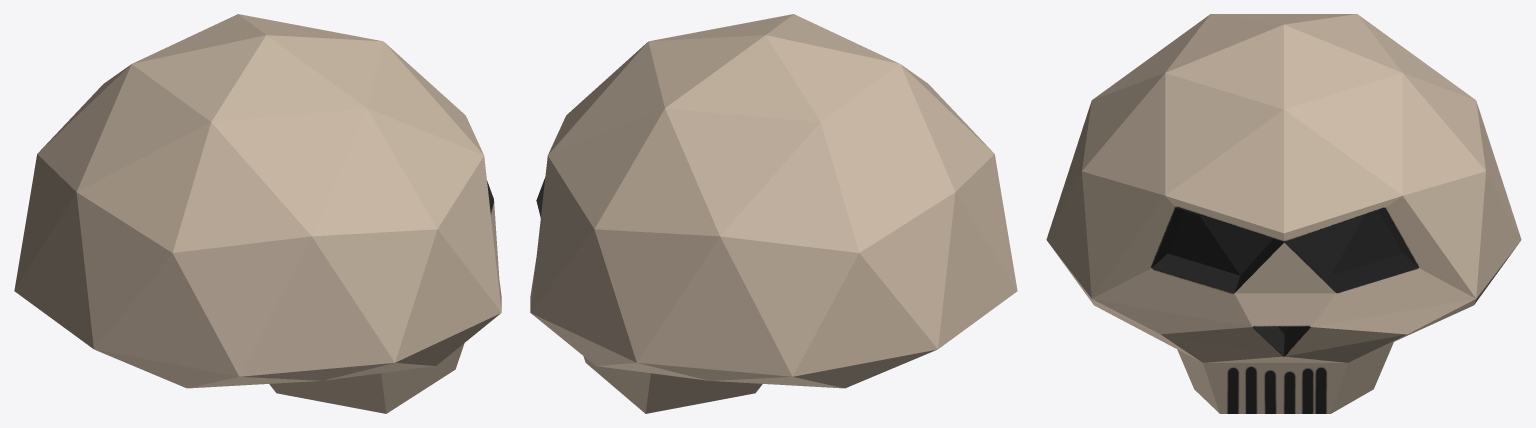
File: skull.fbx
The picture shows the model from 3 angles, left to right: view 1: azimuth 30°, elevation 25°; view 2: azimuth 150°, elevation 25°; view 3: azimuth 270°, elevation 25°; orthographic projection. The views are drawn at different scales.
Parts seen in each view (by area): view 1: Skull; view 2: Skull; view 3: Skull.
Part boxes in pixels (bbox=[...]): Skull: bbox=[14, 14, 501, 413]; Skull: bbox=[530, 14, 1017, 413]; Skull: bbox=[1046, 14, 1521, 413].
Size of the model in its own units: 189 by 154 by 200.
1 material, 1 textured.
